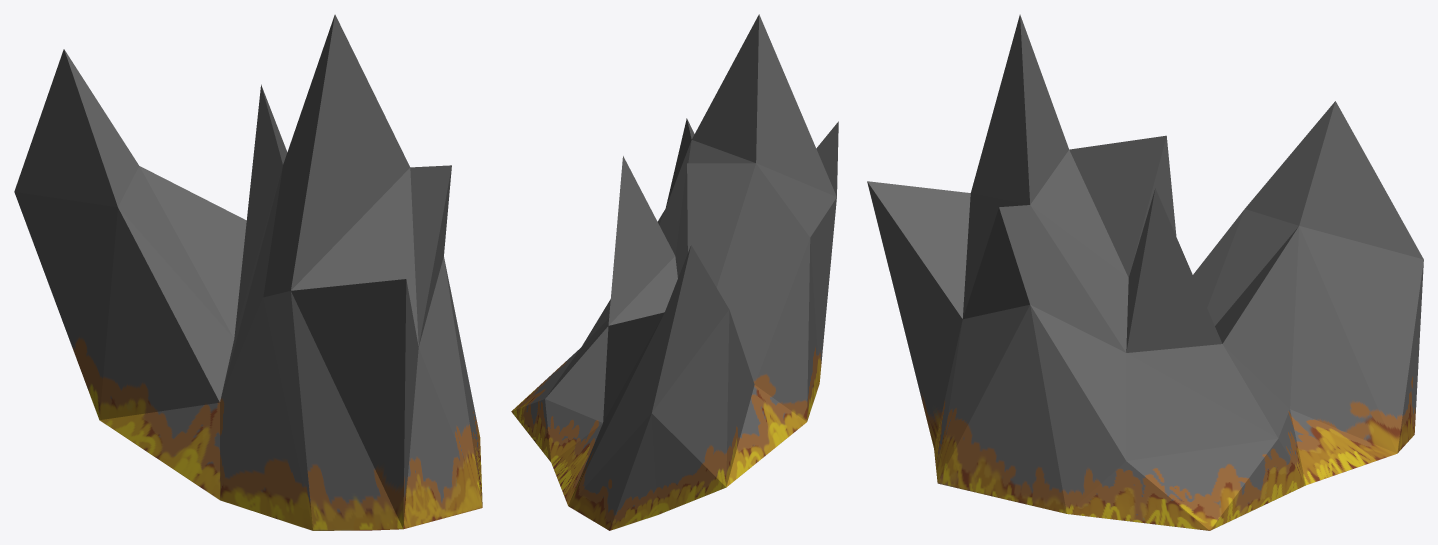
Rendered from mountain.fbx.
3 renders of one model, left to right at view 1: azimuth 30°, elevation 25°; view 2: azimuth 150°, elevation 25°; view 3: azimuth 270°, elevation 25°, orthographic. The views are drawn at different scales.
Parts seen in each view (by area): view 1: Icosphere; view 2: Icosphere; view 3: Icosphere.
Part boxes in pixels (bbox=[...]): Icosphere: bbox=[14, 14, 482, 530]; Icosphere: bbox=[511, 14, 838, 530]; Icosphere: bbox=[867, 14, 1423, 530].
Bounding box in the file's own units: 725 × 1136 × 1290.
1 material, 1 textured.
